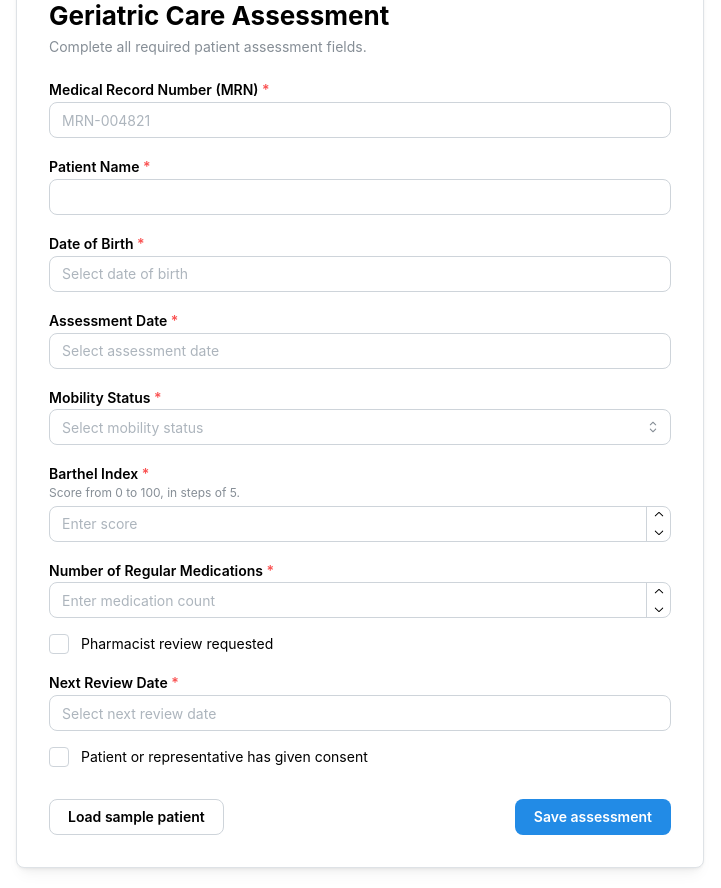
Test: AssessmentForm › loads sample patient data into the form
(page scrolled)
Click the button "Load sample patient". click: (136, 817)
box: [49,799,224,835]
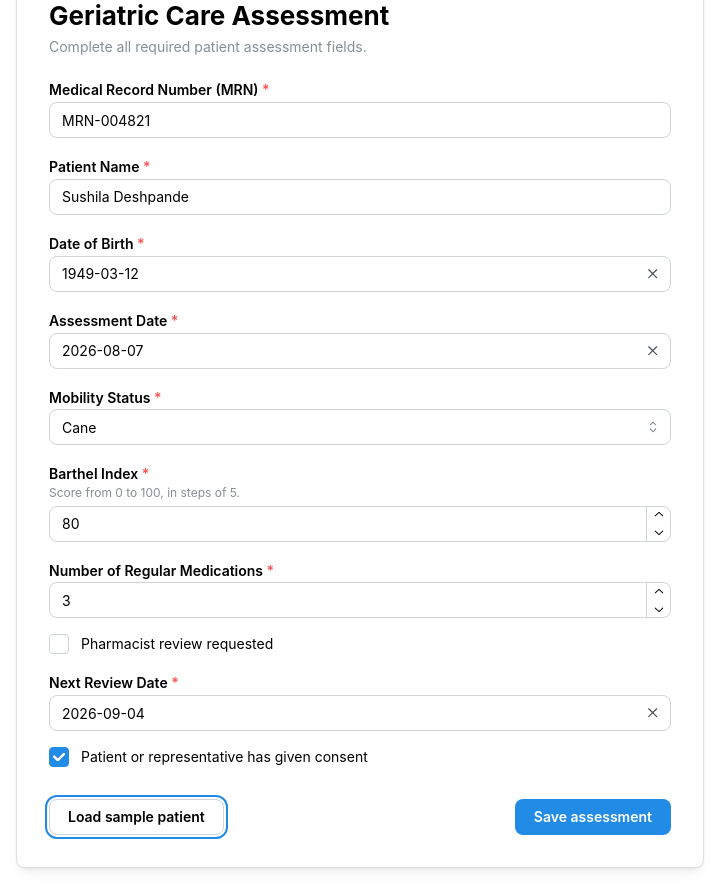
Now the field showing "MRN-004821" is shown, box [49,102,671,138]
Now the field showing "Sushila Deshpande" is shown, box [49,179,671,215]
